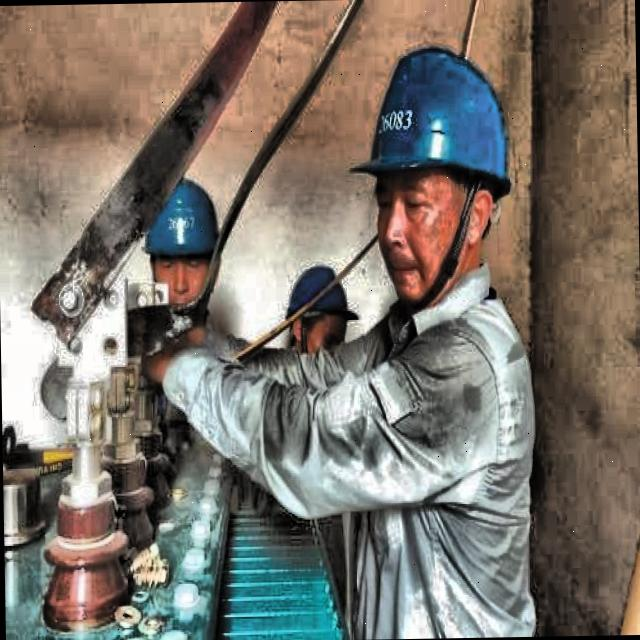helmet: (337, 30, 518, 312), (136, 175, 228, 323), (276, 255, 358, 369)
